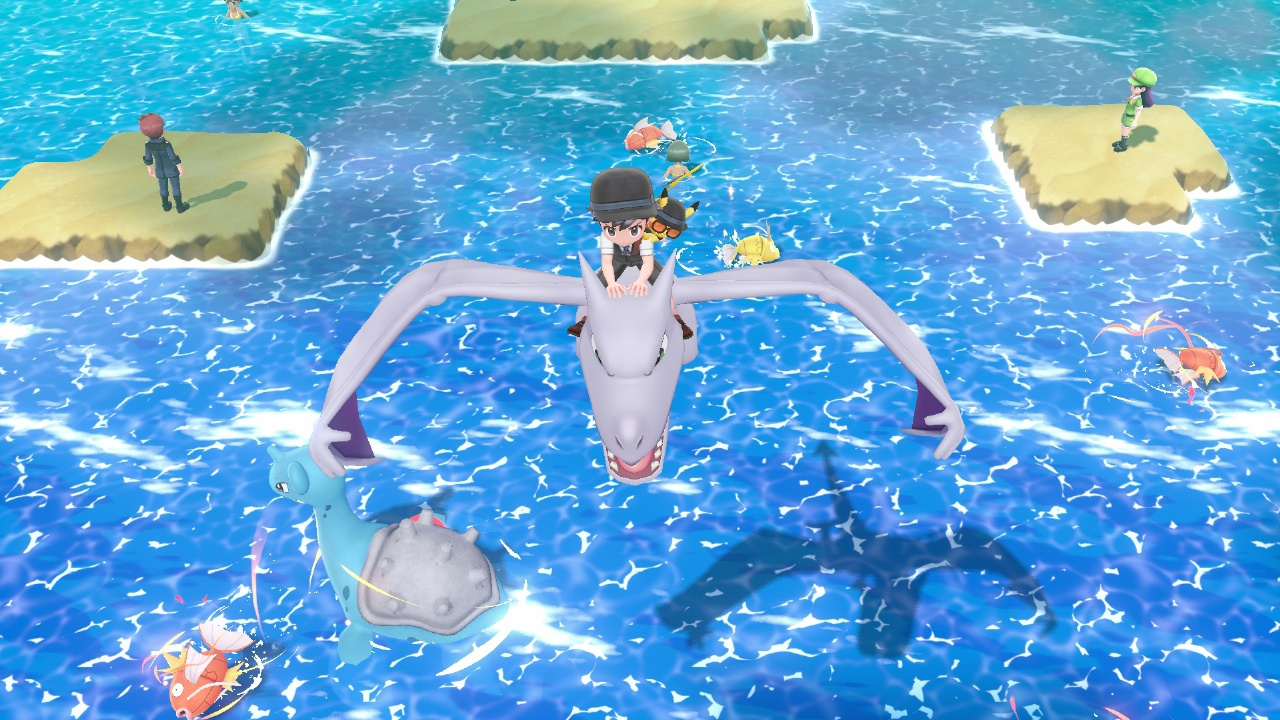Golden: (717, 231, 781, 265)
Red: (165, 624, 253, 720), (1155, 347, 1229, 383), (622, 116, 676, 152)
